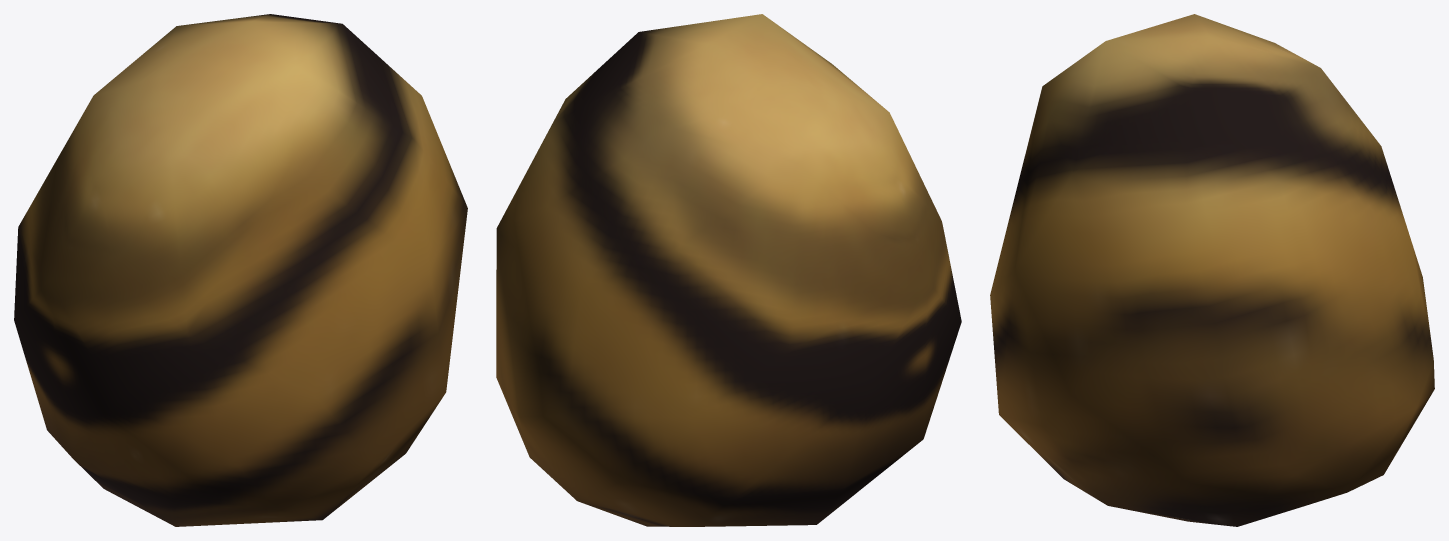
Rendered from SM_Gem_EyeOfTiger_Piece_003.fbx.
3 renders of one model, left to right at view 1: azimuth 30°, elevation 25°; view 2: azimuth 150°, elevation 25°; view 3: azimuth 270°, elevation 25°, orthographic. The views are drawn at different scales.
Visible parts, largest first — view 1: SM_Gem_EyeOfTiger_Piece_003; view 2: SM_Gem_EyeOfTiger_Piece_003; view 3: SM_Gem_EyeOfTiger_Piece_003.
Boxes of the visible parts, x1,y1,x2,y2 form: SM_Gem_EyeOfTiger_Piece_003: [14, 14, 467, 526]; SM_Gem_EyeOfTiger_Piece_003: [496, 14, 961, 526]; SM_Gem_EyeOfTiger_Piece_003: [990, 14, 1434, 526].
Bounding box in the file's own units: 14.34 × 15.85 × 13.37.
